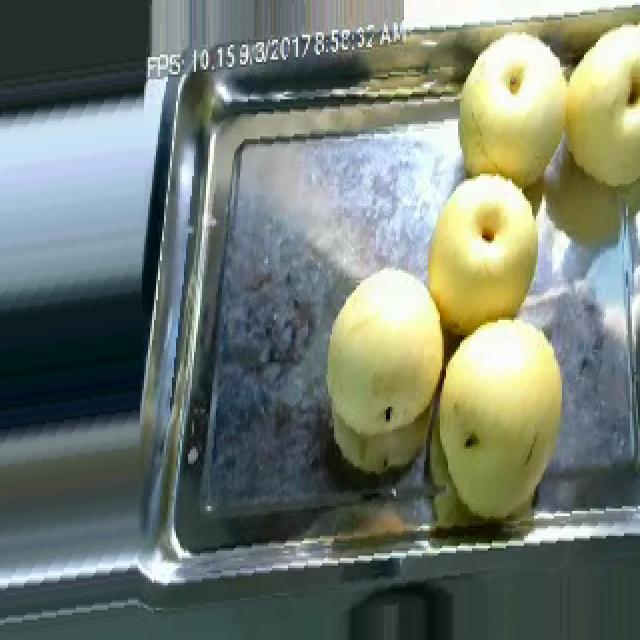Fruit: (418, 306, 578, 536), (312, 263, 452, 487), (440, 25, 588, 206), (418, 168, 558, 350), (550, 12, 640, 204)
